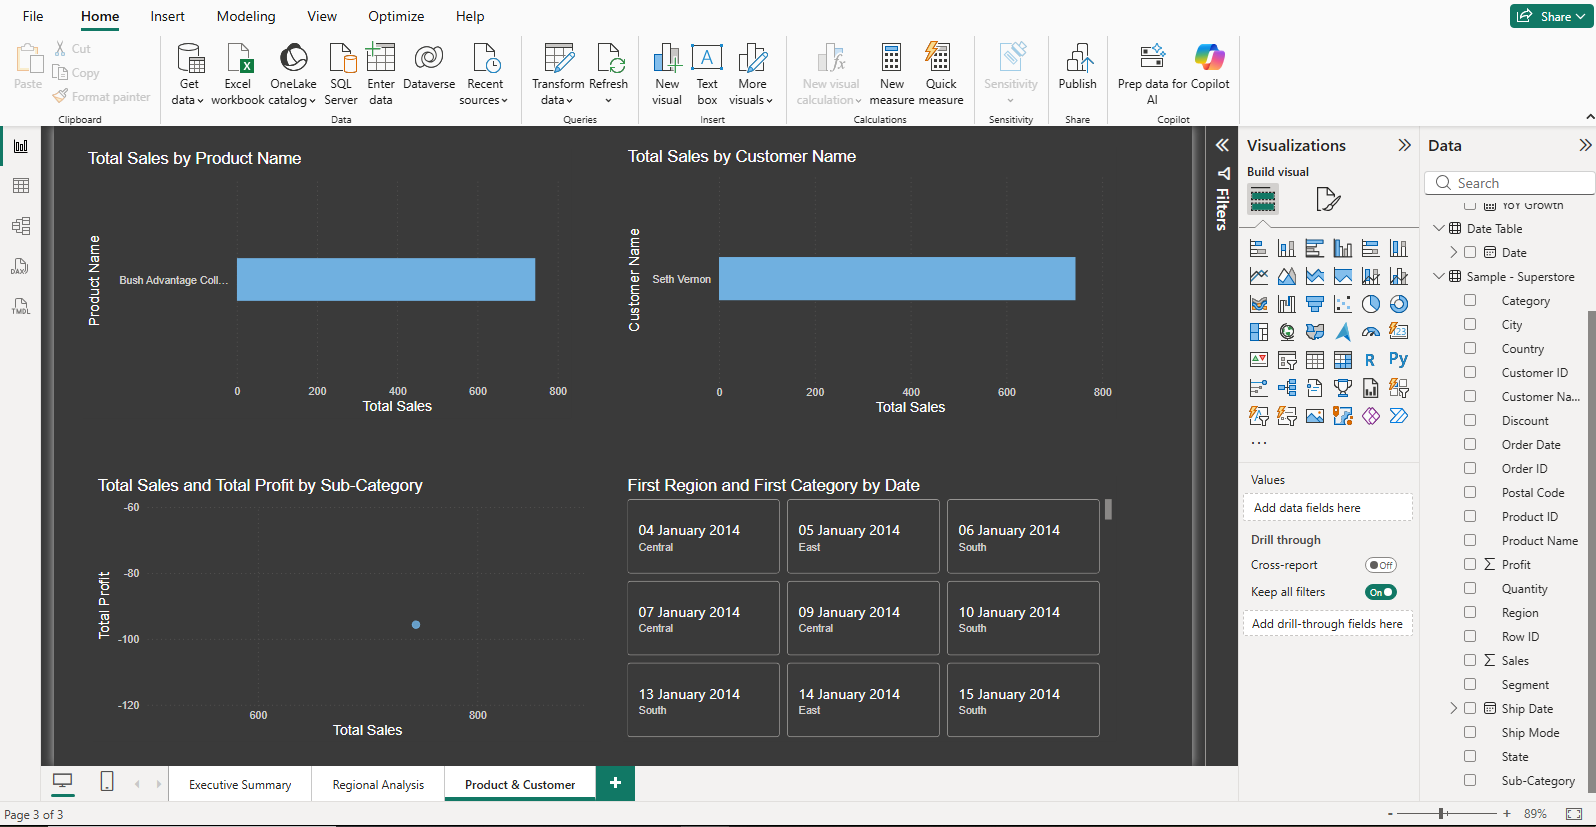

The dashboard page shown, as its layout file describes it:
{"tool":"powerbi","page":{"name":"Product & Customer","canvas":[1280,720],"ordinal":2},"visuals":[{"type":"clusteredBarChart","fields":{"Category":["Sample - Superstore.Product Name"],"Y":["_Measures.Total Sales"]},"box":[32.1,25.7,550,303.3],"z":0},{"type":"scatterChart","fields":{"Category":["Sample - Superstore.Sub-Category"],"X":["_Measures.Total Sales"],"Y":["_Measures.Total Profit"]},"box":[43.7,393.3,571.9,299.4],"z":1},{"type":"clusteredBarChart","fields":{"Category":["Sample - Superstore.Customer Name"],"Y":["_Measures.Total Sales"]},"box":[640,23.1,555.2,305.9],"z":2},{"type":"advancedSlicerVisual","fields":{"Values":["Date Table.Date"],"Label":["Min(Sample - Superstore.Region)"]},"box":[640,393.3,555.2,299.4],"z":3}]}

Visuals, with their boxes on the page's 1280x720 design canvas (x1, y1, x2, y2). These are canvas units, not pixel positions in the 1596x827 screenshot, which may show the page scaled, cropped or inside an application window:
clusteredBarChart - Sample - Superstore.Product Name x _Measures.Total Sales: 32/26/582/329
scatterChart - Sample - Superstore.Sub-Category x _Measures.Total Sales: 44/393/616/693
clusteredBarChart - Sample - Superstore.Customer Name x _Measures.Total Sales: 640/23/1195/329
advancedSlicerVisual - Date Table.Date x Min(Sample - Superstore.Region): 640/393/1195/693
